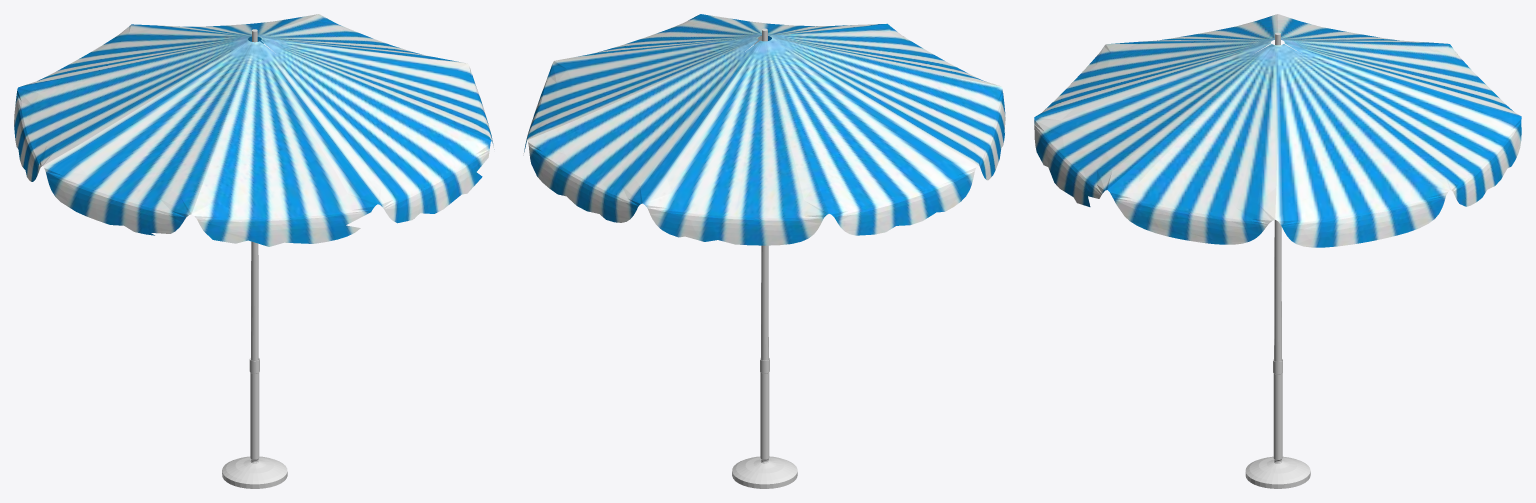
Rendered from sh-bs0-umbrella.glb.
The picture shows the model from 3 angles, left to right: view 1: azimuth 30°, elevation 25°; view 2: azimuth 150°, elevation 25°; view 3: azimuth 270°, elevation 25°; orthographic projection.
Parts seen in each view (by area): view 1: Umbrella_Cylinder.001, Umbrella_Stand_Cylinder; view 2: Umbrella_Cylinder.001, Umbrella_Stand_Cylinder; view 3: Umbrella_Cylinder.001, Umbrella_Stand_Cylinder.
Part boxes in pixels (x1,y1,x2,y2): Umbrella_Cylinder.001: (14,14,494,246); Umbrella_Stand_Cylinder: (222,29,287,488); Umbrella_Cylinder.001: (523,14,1005,245); Umbrella_Stand_Cylinder: (732,28,797,488); Umbrella_Cylinder.001: (1034,14,1521,247); Umbrella_Stand_Cylinder: (1245,32,1310,488).
Size of the model in its own units: 1 by 1 by 1.
2 materials, 1 textured.
